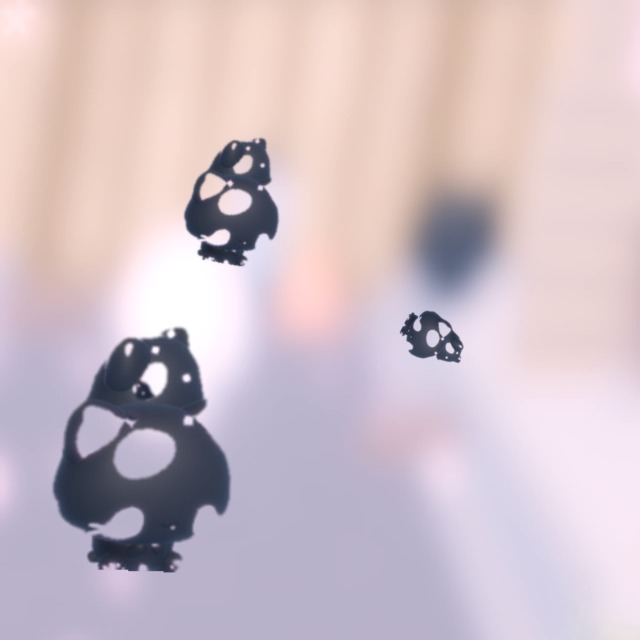urso_preto: (42, 306, 255, 575), (173, 118, 303, 273), (74, 344, 175, 445), (391, 300, 480, 382)
